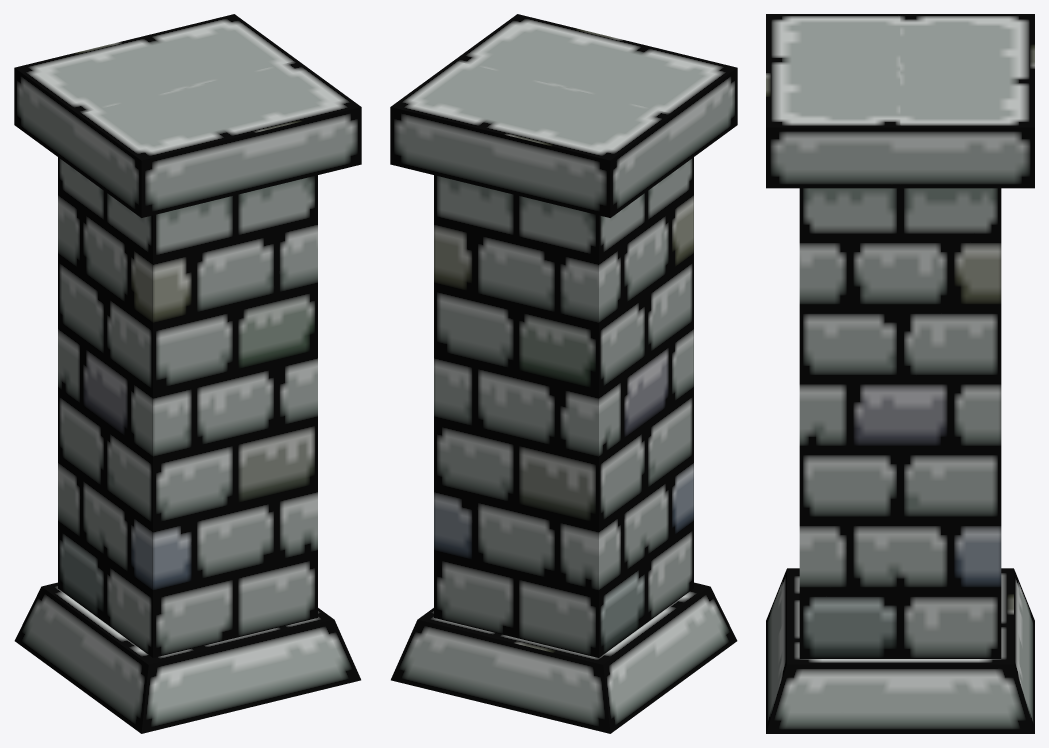
Rendered from deco_cathedral_wallTallEnd.FBX.
The picture shows the model from 3 angles, left to right: view 1: azimuth 30°, elevation 25°; view 2: azimuth 150°, elevation 25°; view 3: azimuth 270°, elevation 25°; orthographic projection. The views are drawn at different scales.
Visible parts, largest first — view 1: deco_cathedral_wallTallEnd; view 2: deco_cathedral_wallTallEnd; view 3: deco_cathedral_wallTallEnd.
Part boxes in pixels (x1,y1,x2,y2): deco_cathedral_wallTallEnd: (14,14,361,733); deco_cathedral_wallTallEnd: (390,14,737,733); deco_cathedral_wallTallEnd: (766,14,1034,733).
Bounding box in the file's own units: 1 × 2.49 × 1.
Materials: 1 (1 with a texture image).
